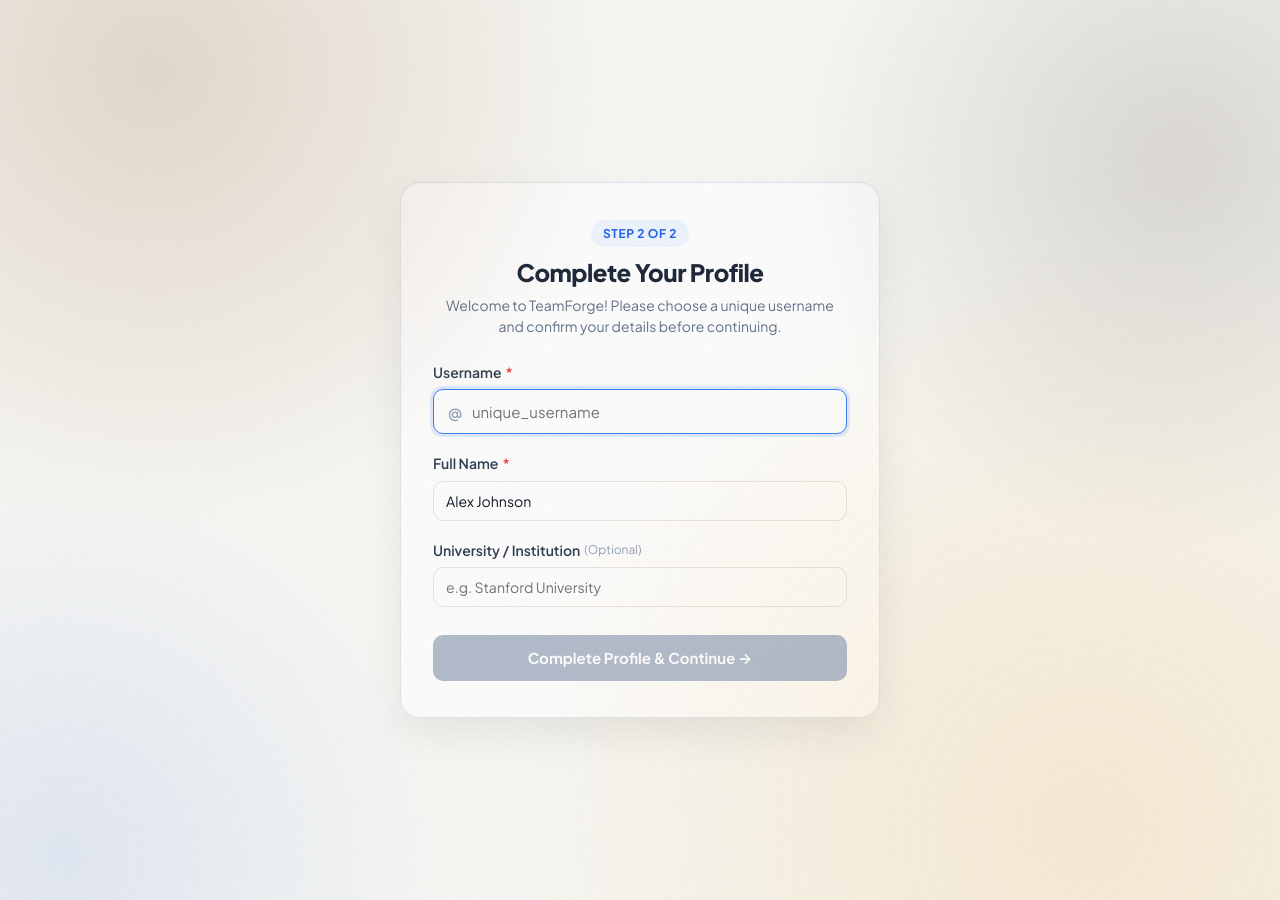
Phase 5 - CompleteProfile Component Tests › displays error banner if backend rejects username with 409 conflict
Step 1. Type "alex_j" into the field with placeholder "unique_username" → (650, 412), box [466, 390, 834, 433]
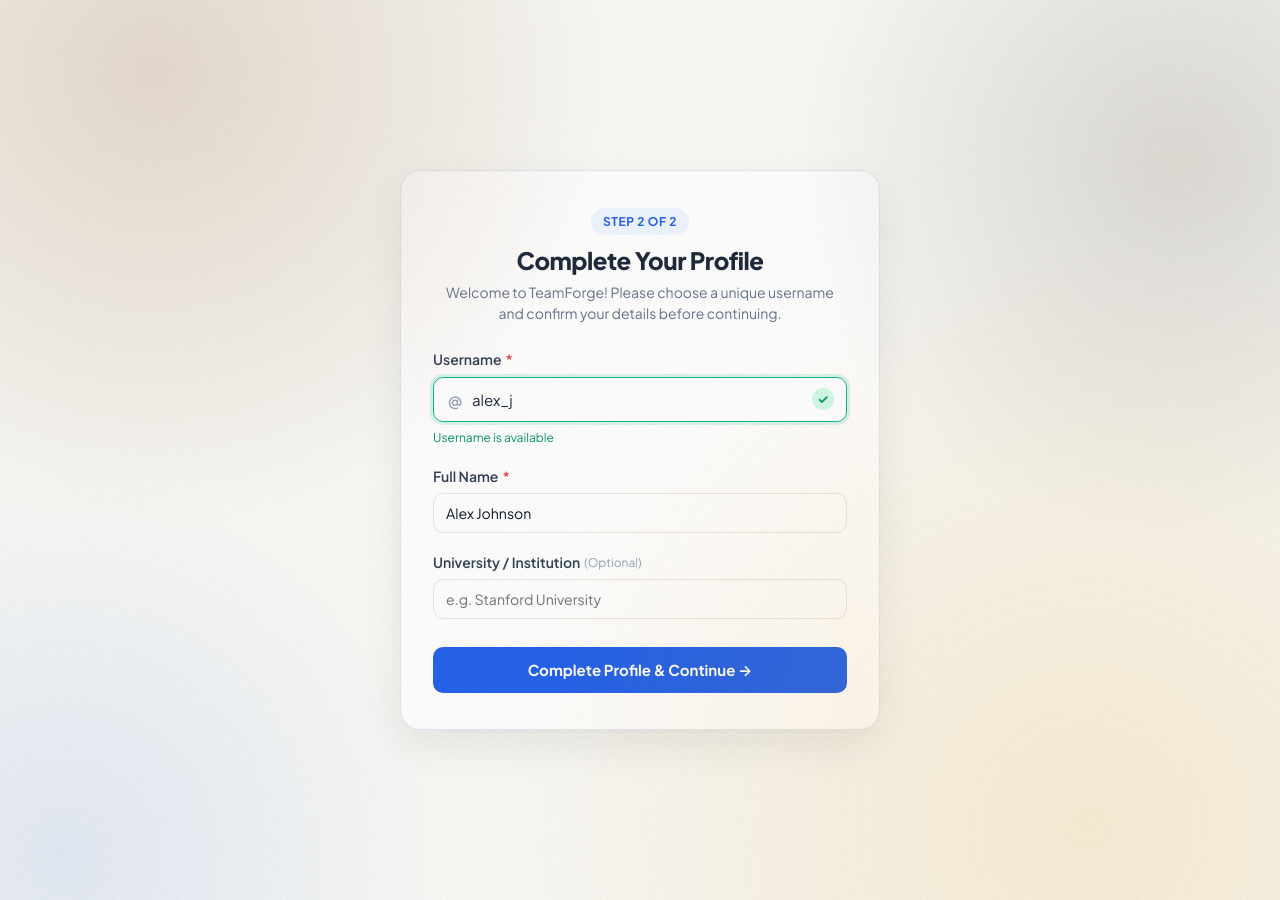
Now the text "Username is available" is shown, box [433, 430, 554, 445]
Step 2. Click the button "Complete Profile & Continue →" → (640, 670), box [433, 647, 847, 693]
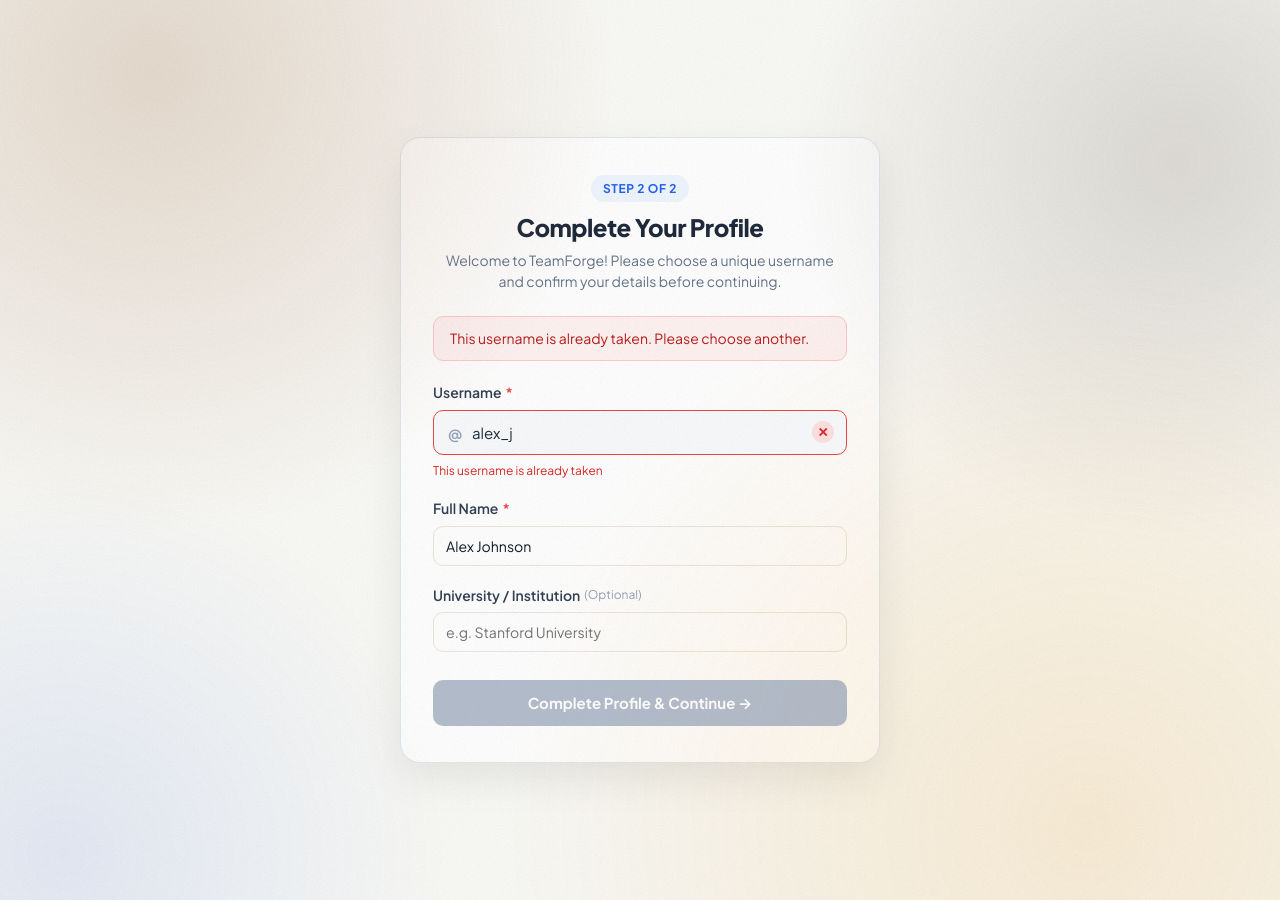
Now the text "This username is already taken. Please choose another." is shown, box [433, 316, 847, 361]
